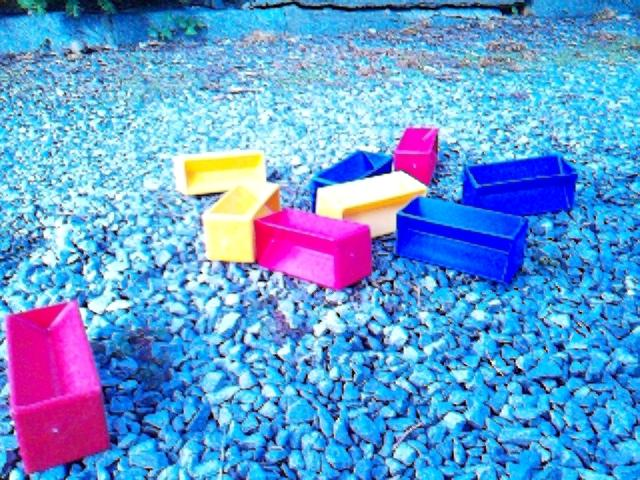blue: (395, 196, 531, 288), (462, 154, 580, 218), (312, 150, 395, 215)
red: (6, 301, 113, 475), (255, 209, 373, 292), (395, 127, 439, 186)
yellow: (316, 170, 431, 240), (203, 181, 282, 265), (174, 151, 269, 197)
